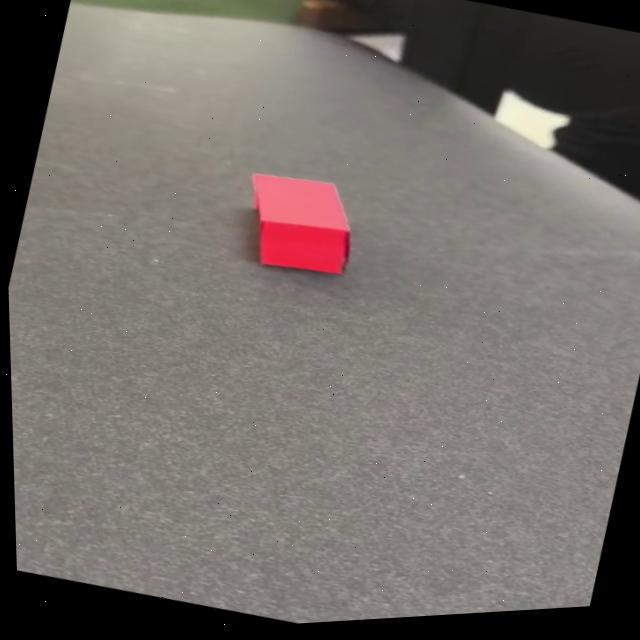red block: (230, 159, 367, 286)
